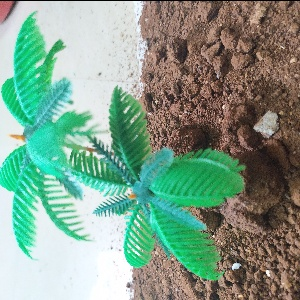plant: (2, 26, 248, 259)
